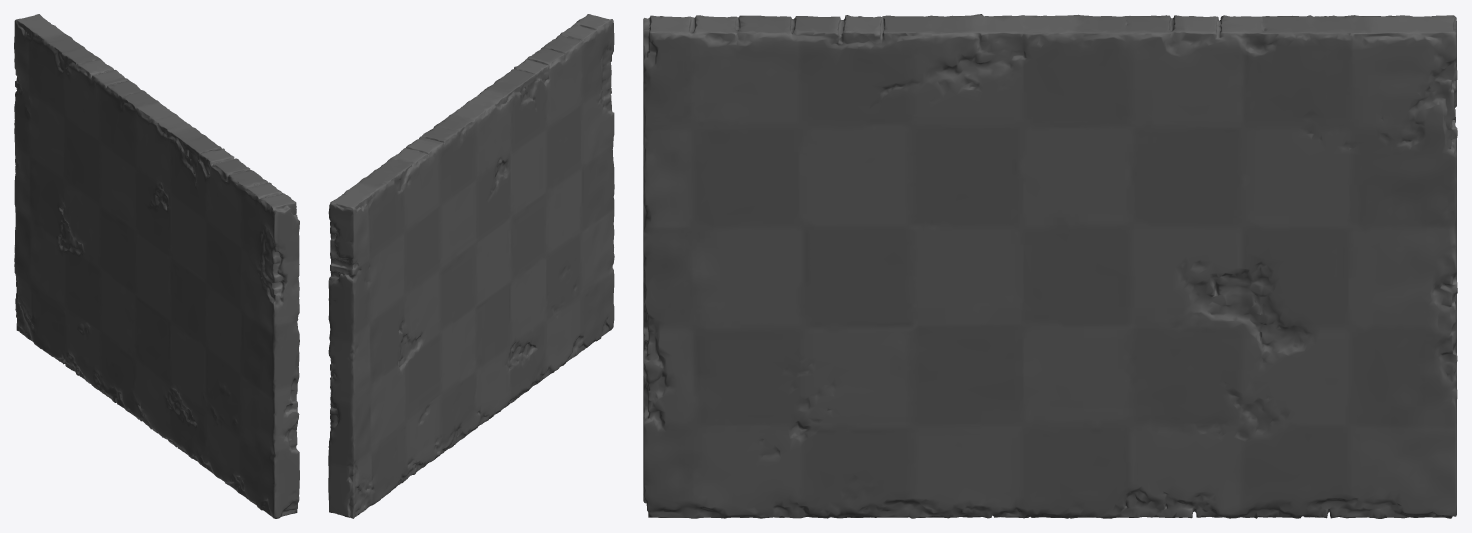
File: Wall_01_e0e19c.glb
3 views of the same model, side by side, from view 1: azimuth 30°, elevation 25°; view 2: azimuth 150°, elevation 25°; view 3: azimuth 270°, elevation 25° (orthographic). The views are drawn at different scales.
Visible parts, largest first — view 1: Wall_01; view 2: Wall_01; view 3: Wall_01.
Boxes of the visible parts, x1,y1,x2,y2 form: Wall_01: [14, 14, 299, 518]; Wall_01: [328, 14, 614, 518]; Wall_01: [643, 14, 1457, 518].
Size of the model in its own units: 0.328 by 3.61 by 5.47.
Materials: 1 (1 with a texture image).
